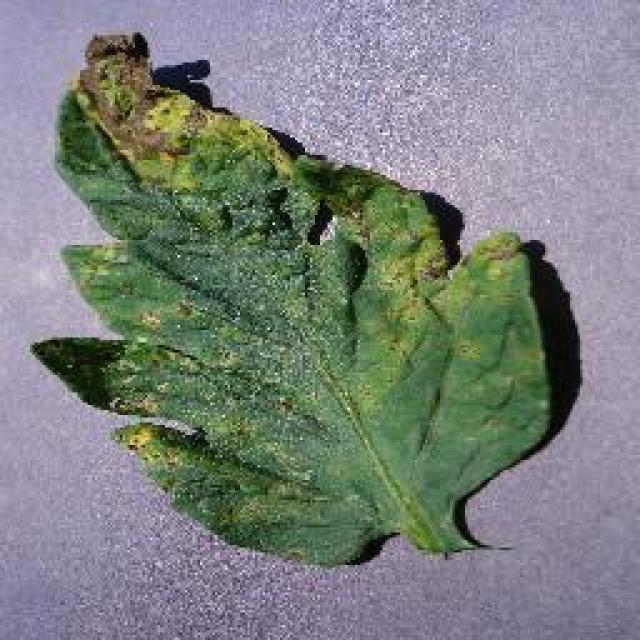Tomato target spot leaf: (41, 35, 554, 570)
